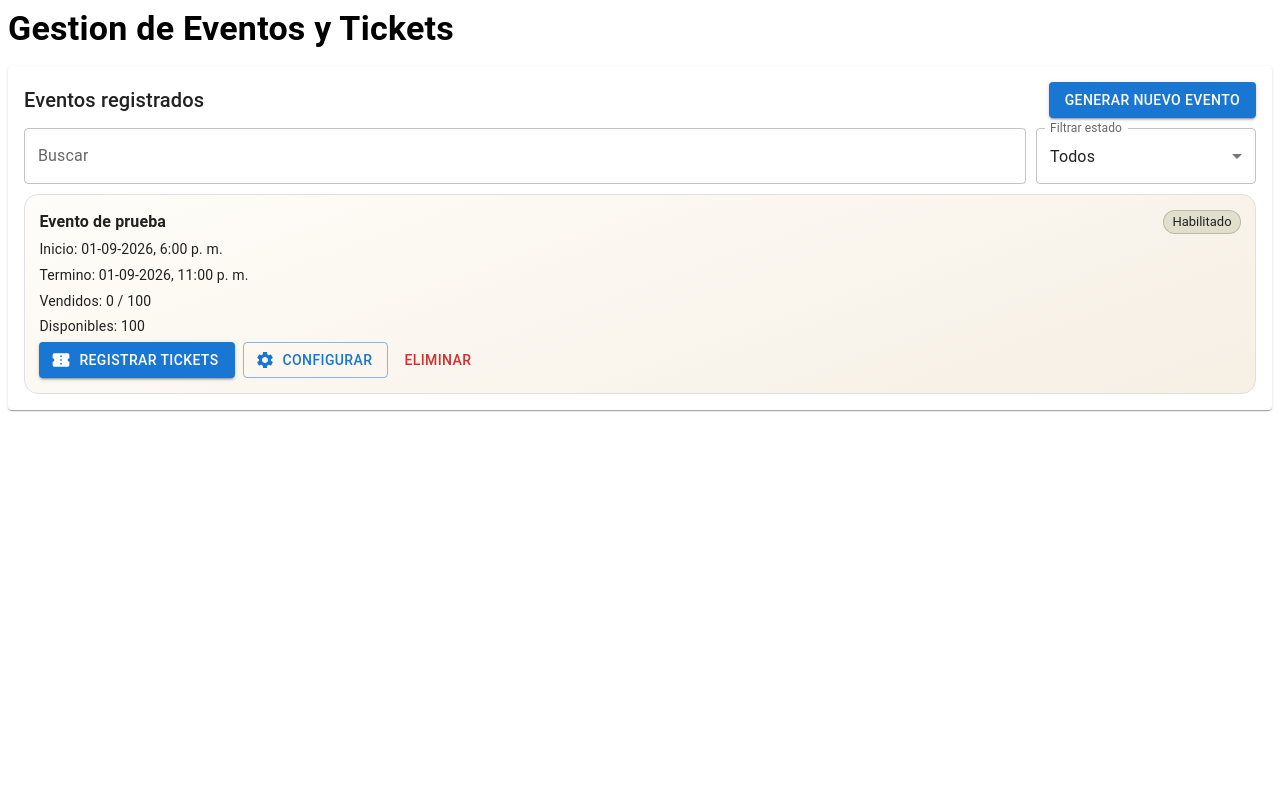
Test: EventsTicketsView › no permite cerrar el modal mientras se está generando el QR
Click the button labelled "Registrar tickets" at (137, 360), box [39,342,234,378]
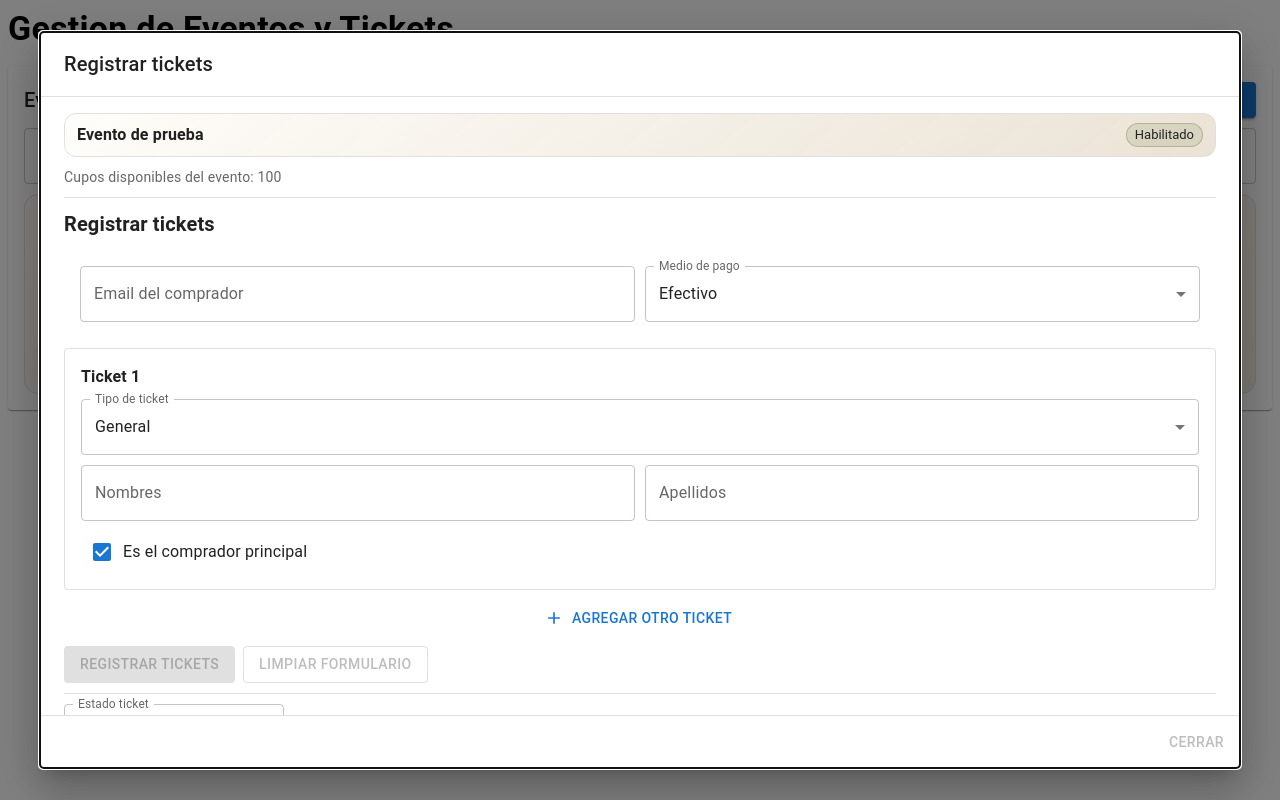
Expected: the button "Cerrar" is disabled, [1161,724,1232,760]
